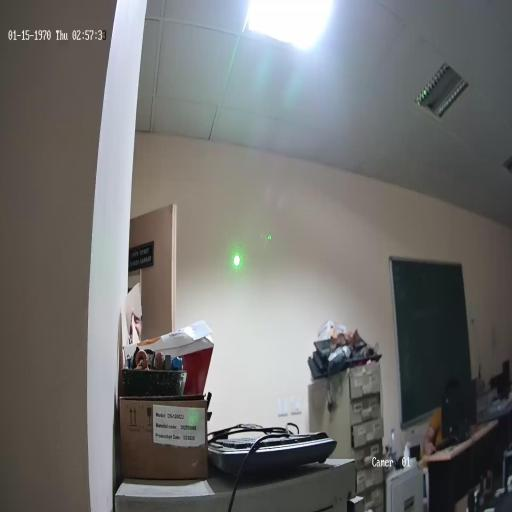laser: (231, 250, 241, 270)
